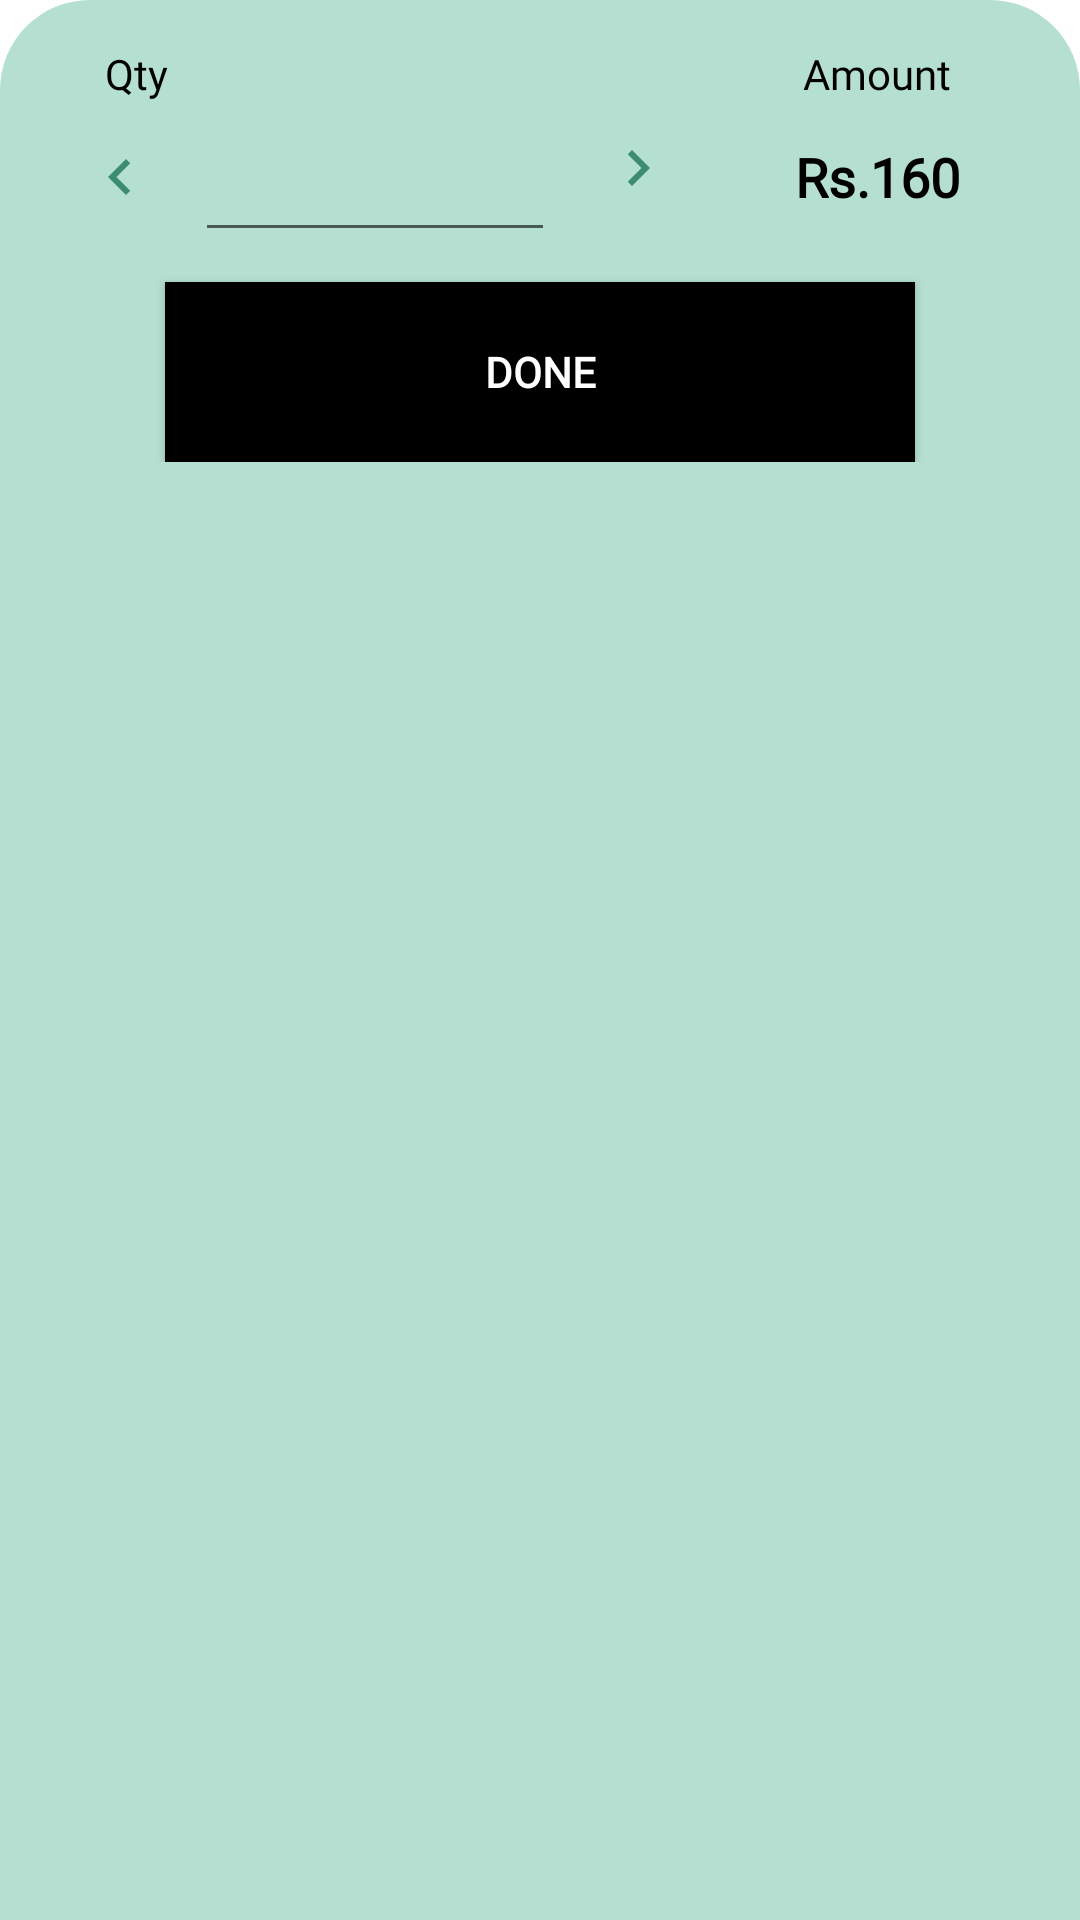

Point at icon controls on the screen. Image size 1080 × 1920, points as (x=x, y=y).
left: (x=119, y=177)
right: (x=639, y=168)
